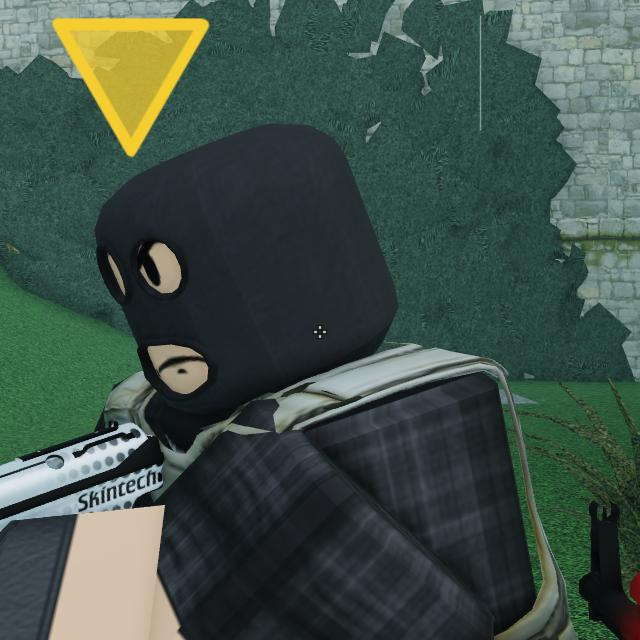Head: (96, 125, 398, 410)
Player: (0, 125, 583, 640)
